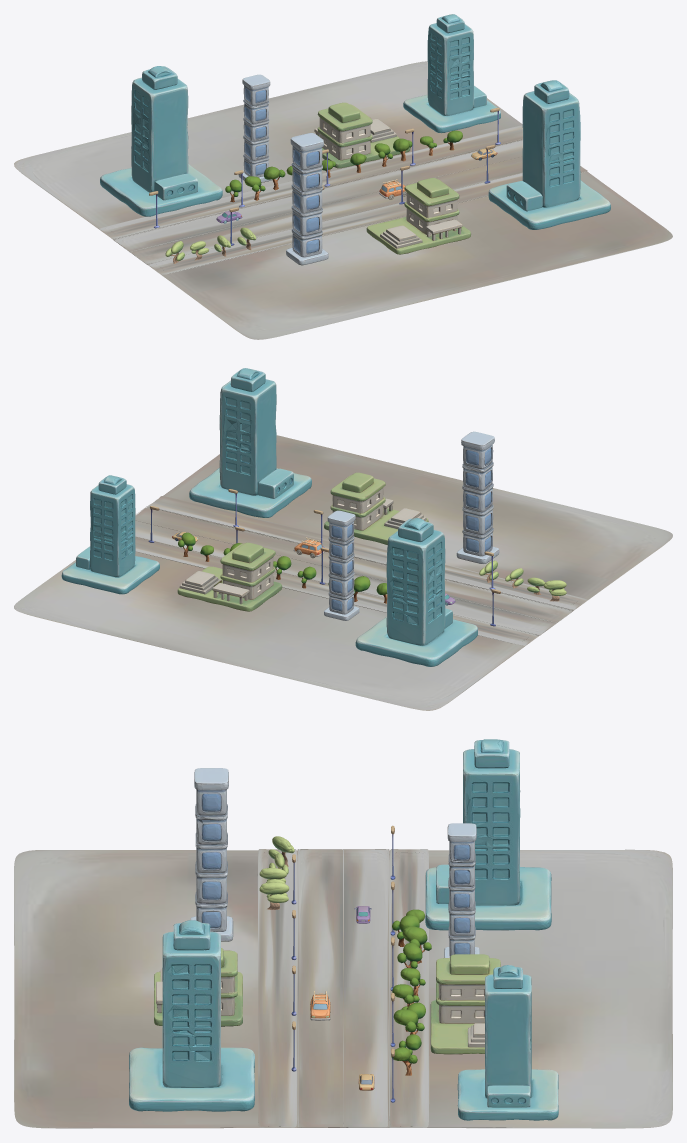
The picture shows the model from 3 angles, top to bottom: view 1: azimuth 30°, elevation 25°; view 2: azimuth 150°, elevation 25°; view 3: azimuth 270°, elevation 25°; orthographic projection. The views are drawn at different scales.
Visible parts, largest first — view 1: 形状立方体02_0, 形状立方体02_5, 摩天大楼01_17, 摩天大楼01_11, 摩天大楼01_14, 形状立方体02_9, 军事大楼02_16, 摩天大楼02_15, 形状立方体02_10, 军事大楼02_13, 摩天大楼02_12; view 2: 形状立方体02_0, 摩天大楼01_11, 摩天大楼01_17, 形状立方体02_5, 摩天大楼01_14, 形状立方体02_10, 军事大楼02_13, 摩天大楼02_15, 军事大楼02_16, 形状立方体02_9, 摩天大楼02_12; view 3: 形状立方体02_0, 形状立方体02_5, 摩天大楼01_17, 摩天大楼01_11, 形状立方体02_10, 摩天大楼01_14, 形状立方体02_9, 摩天大楼02_15, 军事大楼02_13, 摩天大楼02_12, 军事大楼02_16, 庭院树02_37.
Part boxes in pixels (x1,y1,x2,y2): 形状立方体02_0: (14,61,672,339); 形状立方体02_5: (114,140,522,263); 摩天大楼01_17: (488,80,610,229); 摩天大楼01_11: (100,66,222,216); 摩天大楼01_14: (403,14,500,133); 形状立方体02_9: (99,125,522,238); 军事大楼02_16: (366,177,471,254); 摩天大楼02_15: (286,133,328,265); 形状立方体02_10: (148,166,587,274); 军事大楼02_13: (314,102,410,168); 摩天大楼02_12: (238,74,272,182); 形状立方体02_0: (14,435,672,710); 摩天大楼01_11: (355,518,477,666); 摩天大楼01_17: (189,368,311,517); 形状立方体02_5: (135,507,571,634); 摩天大楼01_14: (61,475,159,594); 形状立方体02_10: (148,496,587,609); 军事大楼02_13: (177,542,282,611); 摩天大楼02_15: (456,431,499,563); 军事大楼02_16: (324,472,428,544); 形状立方体02_9: (135,537,538,645); 摩天大楼02_12: (324,510,359,620); 形状立方体02_0: (14,849,672,1128); 形状立方体02_5: (297,849,389,1127); 摩天大楼01_17: (129,920,254,1111); 摩天大楼01_11: (425,739,551,930); 形状立方体02_10: (257,849,297,1127); 摩天大楼01_14: (457,965,558,1120); 形状立方体02_9: (389,849,429,1127); 摩天大楼02_15: (190,768,233,941); 军事大楼02_13: (430,954,500,1054); 摩天大楼02_12: (444,823,479,957); 军事大楼02_16: (154,948,242,1026); 庭院树02_37: (259,882,289,909).
Size of the model in its own units: 100 by 27.46 by 100.
10 materials, 10 textured.
